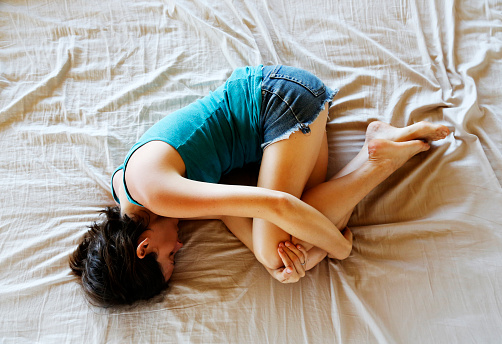deitado: (21, 70, 472, 329)
